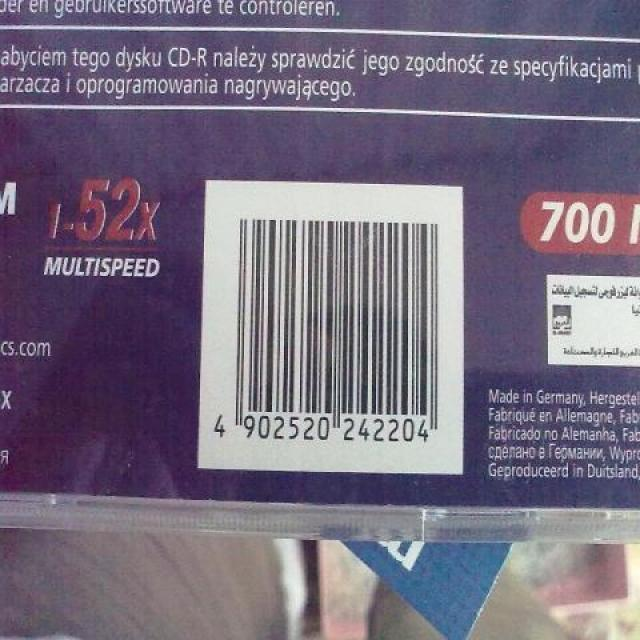Barcode: (206, 181, 454, 475)
